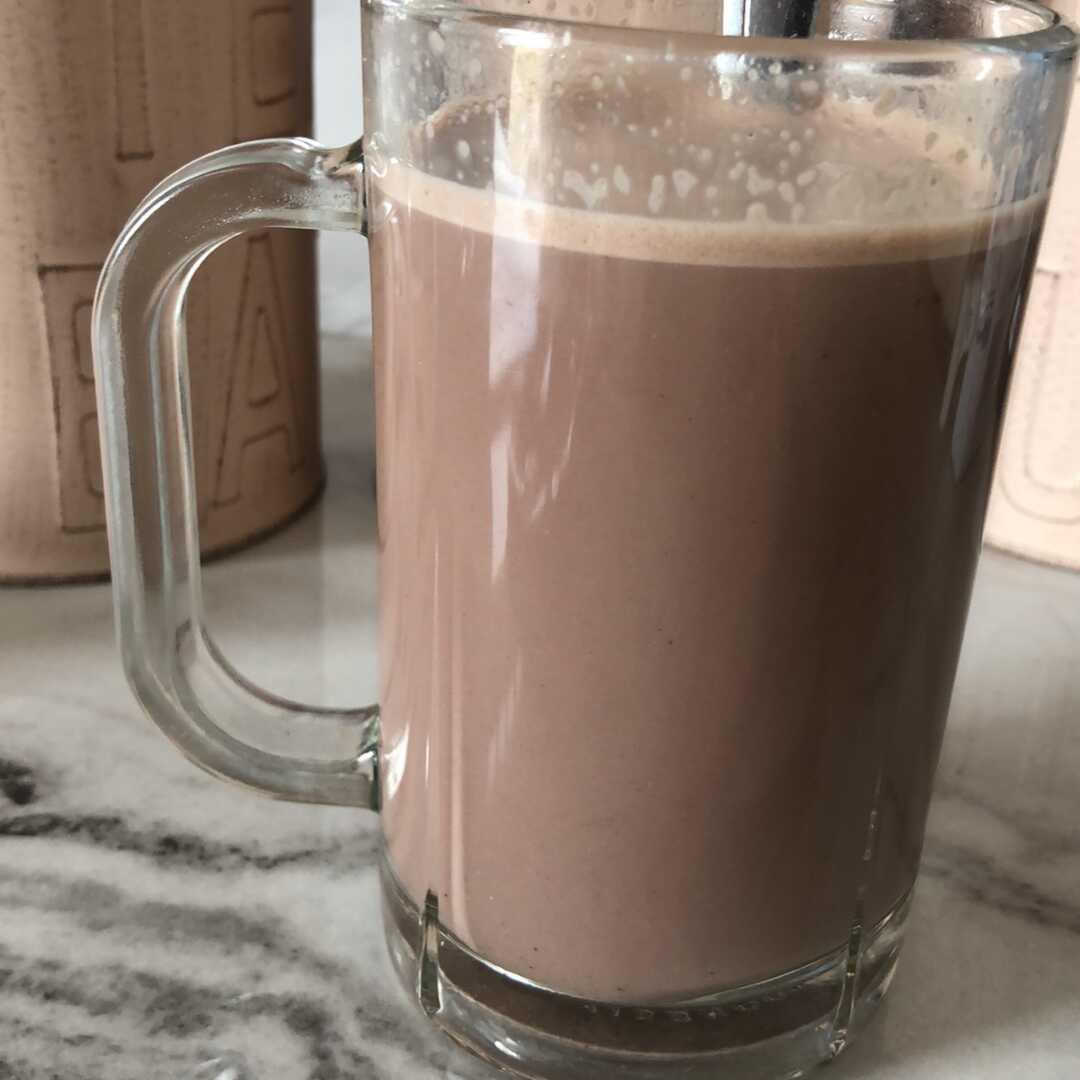produk_susu: (415, 76, 877, 952)
